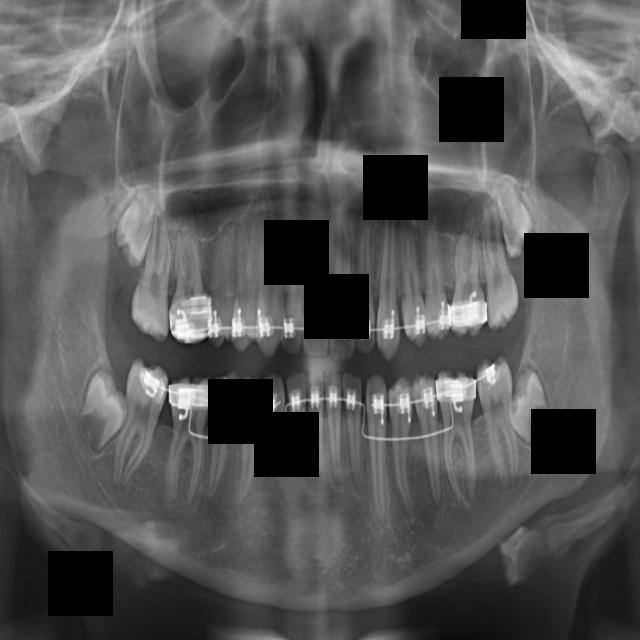3M ESPE Implant: (107, 179, 159, 271)
AGS Medikal Implant: (509, 470, 510, 476)
AMerOss Implant: (437, 369, 479, 506)
Amalgam filling: (130, 199, 174, 342)
Anthogyr Implant: (411, 372, 444, 512)
Bicon Implant: (386, 376, 422, 514)
BioHorizons Implant: (365, 374, 389, 519)
BioLife Implant: (342, 370, 366, 488)
Biomet 3i Implant: (324, 367, 346, 487)
Blue Sky Bio Implant: (306, 367, 326, 474)
Camlog Implant: (285, 369, 317, 484)
Caries: (356, 214, 376, 354)
Composite filling: (252, 369, 311, 524)
Cowellmedi Implant: (226, 375, 264, 511)
Crown: (198, 368, 241, 508)
DENTSPLY Implant: (170, 232, 207, 344)
Dentatus Implant: (152, 371, 214, 518)
Dentis Implant: (120, 480, 122, 484)
Dentium Implant: (65, 364, 136, 463)
Euroteknika Implant: (204, 217, 240, 348)
Filling: (229, 196, 261, 354)
Frontier Implant: (257, 181, 285, 358)
Hiossen Implant: (377, 174, 401, 363)
Implant: (302, 208, 332, 359)
Implant Direct: (316, 220, 316, 221)
Keystone Dental Implant: (329, 203, 355, 364)
MIS Implant: (388, 205, 430, 348)
Mandible: (416, 222, 453, 342)
Maxilla: (448, 224, 487, 339)
Megagen Implant: (477, 195, 522, 333)
Neodent Implant: (489, 168, 539, 261)
Neoss Implant: (511, 365, 552, 450)
